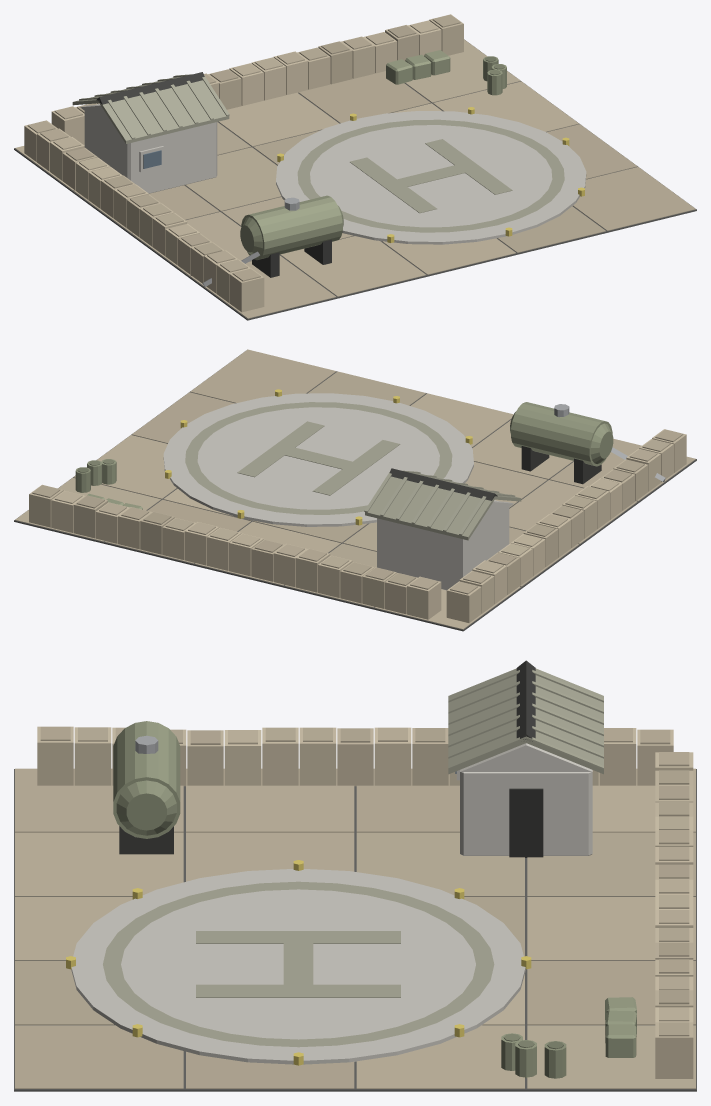
The model's file is b_heligun.glb.
3 renders of one model, top to bottom at view 1: azimuth 30°, elevation 25°; view 2: azimuth 150°, elevation 25°; view 3: azimuth 270°, elevation 25°, orthographic. The views are drawn at different scales.
Parts seen in each view (by area): view 1: hull; view 2: hull; view 3: hull.
Boxes of the visible parts, x1,y1,x2,y2 form: hull: (14, 14, 696, 320); hull: (14, 349, 696, 631); hull: (14, 660, 696, 1091).
Size of the model in its own units: 20.28 by 3.77 by 18.
